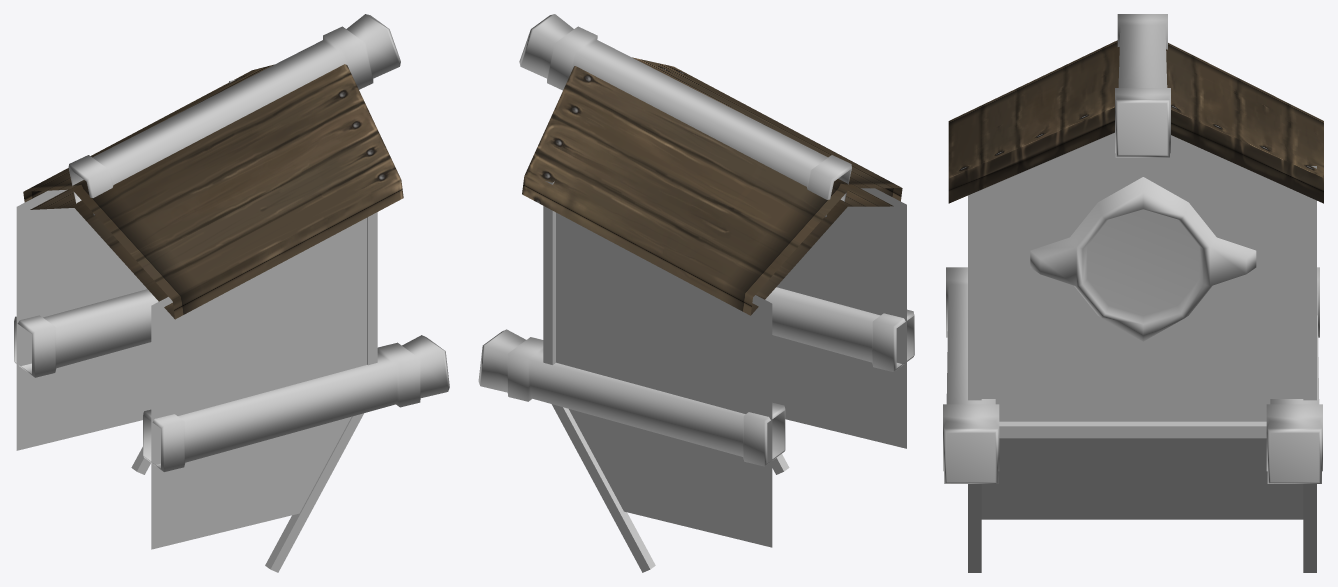
The model's file is M_WindowBox2.fbx.
The picture shows the model from 3 angles, left to right: view 1: azimuth 30°, elevation 25°; view 2: azimuth 150°, elevation 25°; view 3: azimuth 270°, elevation 25°; orthographic projection. The views are drawn at different scales.
Visible parts, largest first — view 1: M_WindowBox2; view 2: M_WindowBox2; view 3: M_WindowBox2.
Part boxes in pixels (x1,y1,x2,y2): M_WindowBox2: (14, 14, 449, 572); M_WindowBox2: (478, 14, 914, 572); M_WindowBox2: (943, 14, 1323, 572).
Size of the model in its own units: 4.27 by 5.85 by 3.5.
